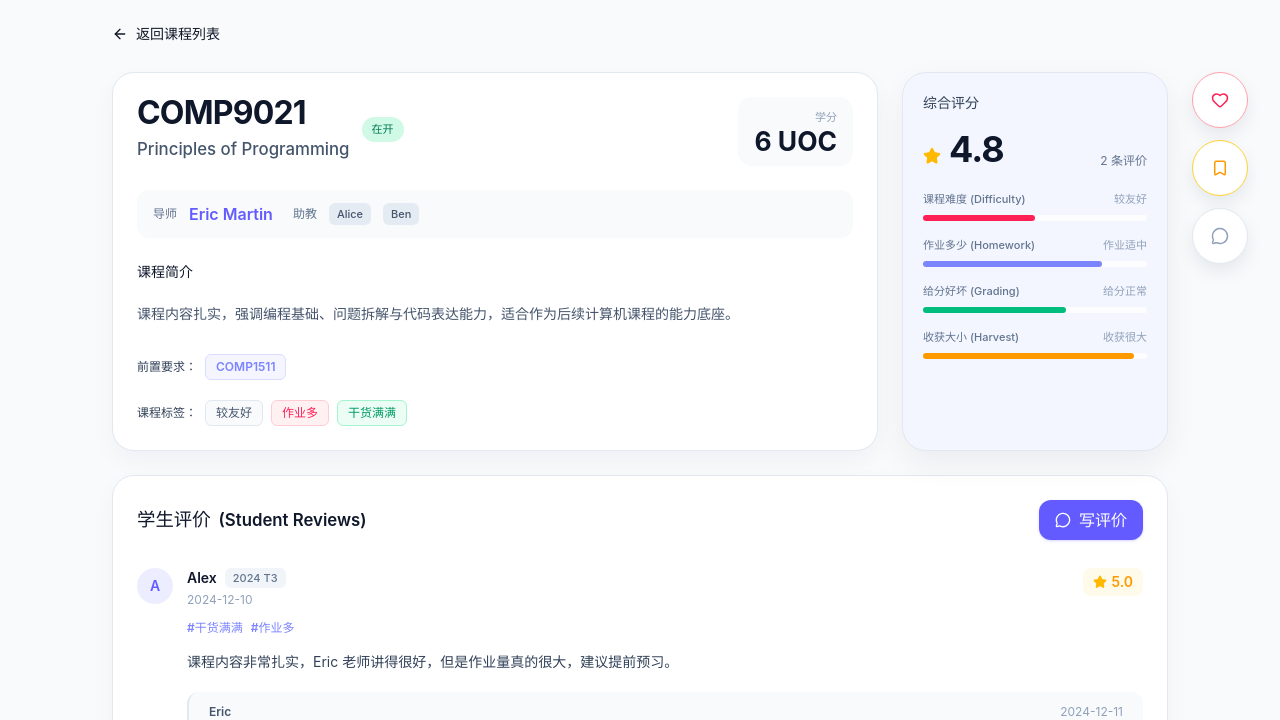
task5 user pages › renders the migrated course detail page with task2 learning data and review overlay
Check: the heading "COMP9021 Principles of Programming" is shown, box [137,97,350,162]
Check: the text "课程简介" is shown, box [137,263,193,280]
Click the button "写评价": (1091, 520) [1039,500,1143,540]
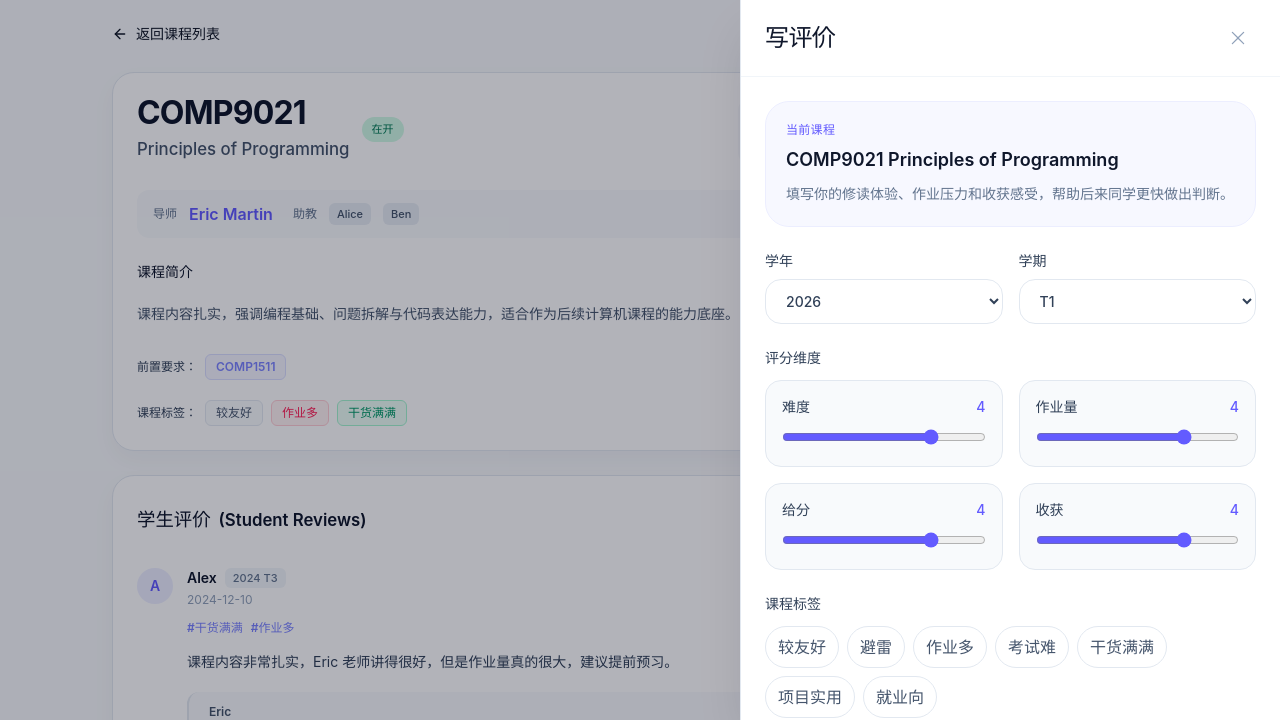
Check: the dialog "写评价" is shown, box [740,0,1279,719]
